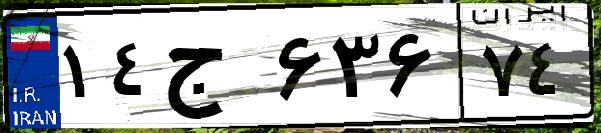1: (57, 26, 110, 100)
3: (330, 28, 385, 110)
4: (525, 38, 570, 115), (110, 28, 158, 98)
6: (270, 28, 330, 110), (385, 28, 445, 110)
7: (475, 38, 525, 113)
ج: (158, 20, 270, 120)
